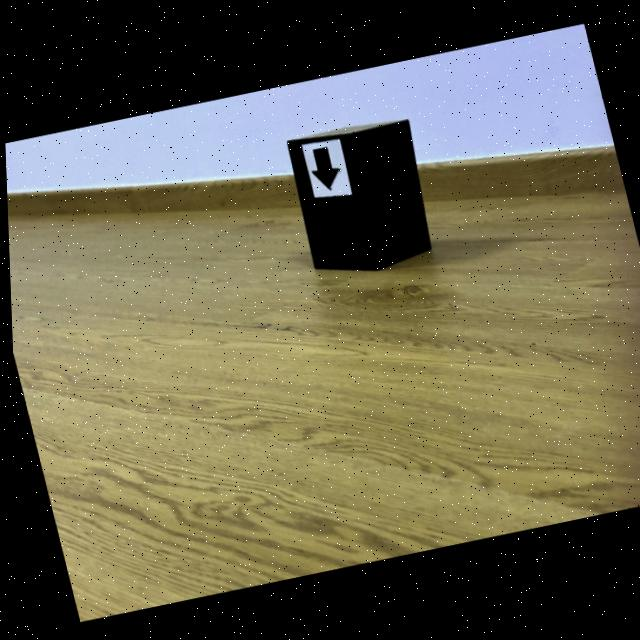DOWN: (311, 146, 338, 188)
